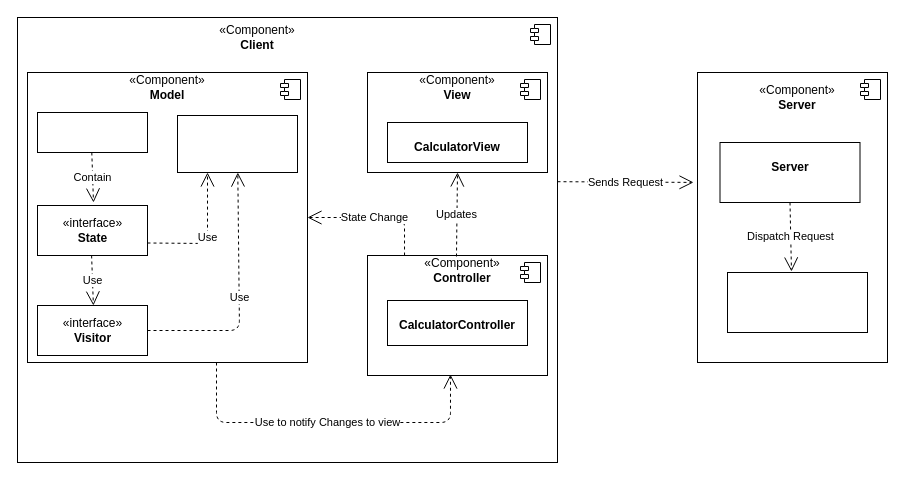
The diagram is 905 pixels wide and 480 high, and some of its shapes have lost their labels. Each missing label, with the centre of its shape:
"CalculatorContext" belongs at pixel 92 132.
"RequestHandler" belongs at pixel 797 302.
"«interface» OperatorComposite" belongs at pixel 237 143.
